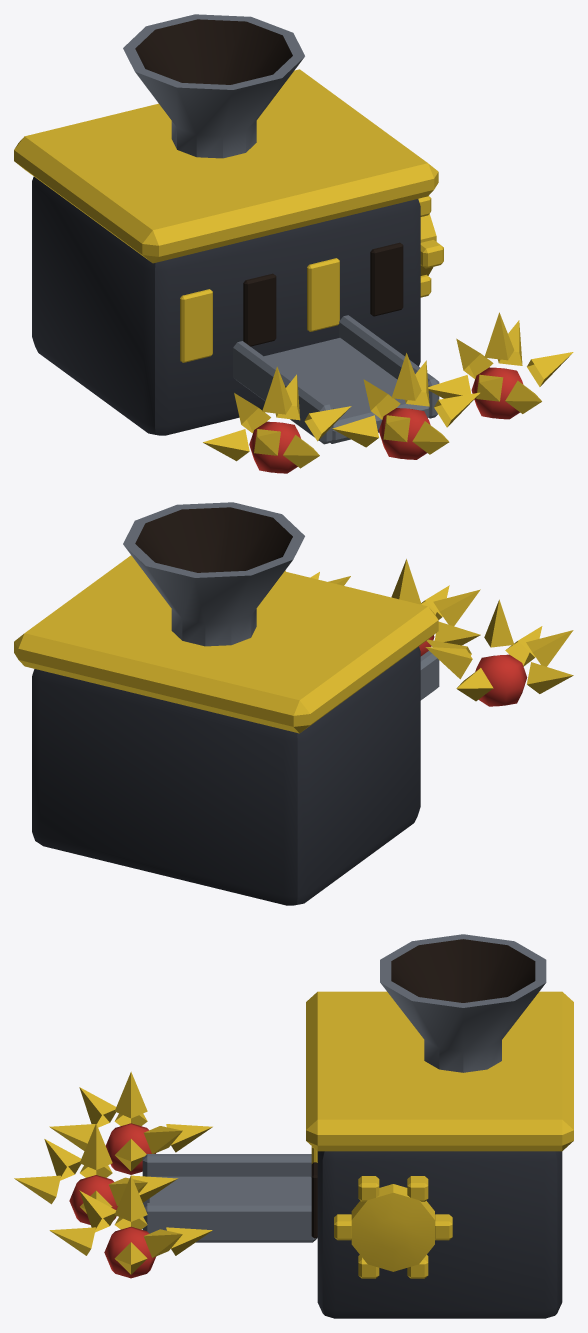
The picture shows the model from 3 angles, top to bottom: view 1: azimuth 30°, elevation 25°; view 2: azimuth 150°, elevation 25°; view 3: azimuth 270°, elevation 25°; orthographic projection. The views are drawn at different scales.
Visible parts, largest first — view 1: espinhos_0_base; view 2: espinhos_0_base; view 3: espinhos_0_base.
Part boxes in pixels (x1,y1,x2,y2): espinhos_0_base: [14, 14, 573, 473]; espinhos_0_base: [14, 502, 573, 905]; espinhos_0_base: [14, 934, 573, 1318].
Bounding box in the file's own units: 0.7021 × 0.55 × 0.961.
